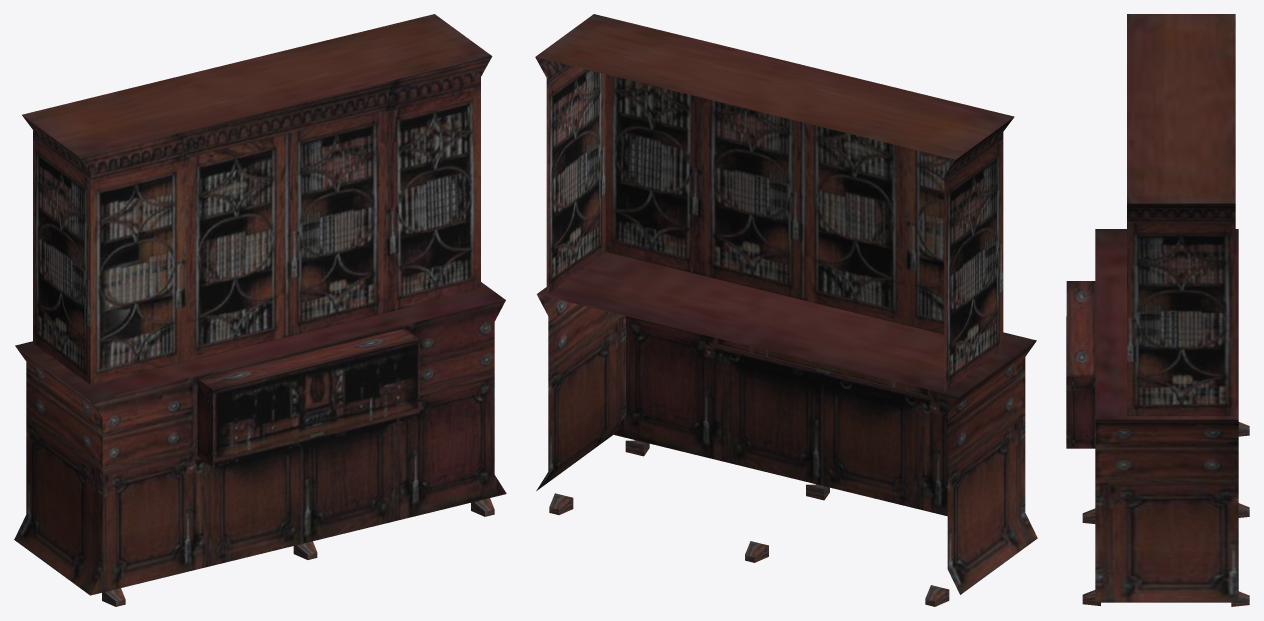
File: bookcase.obj
The picture shows the model from 3 angles, left to right: view 1: azimuth 30°, elevation 25°; view 2: azimuth 150°, elevation 25°; view 3: azimuth 270°, elevation 25°; orthographic projection. The views are drawn at different scales.
Visible parts, largest first — view 1: br_bookcase; view 2: br_bookcase; view 3: br_bookcase.
Boxes of the visible parts, x1,y1,x2,y2 form: br_bookcase: (14,14,506,606); br_bookcase: (535,14,1037,606); br_bookcase: (1066,14,1249,606).
Bounding box in the file's own units: 63.84 × 63.59 × 25.72.
Materials: 1 (1 with a texture image).
